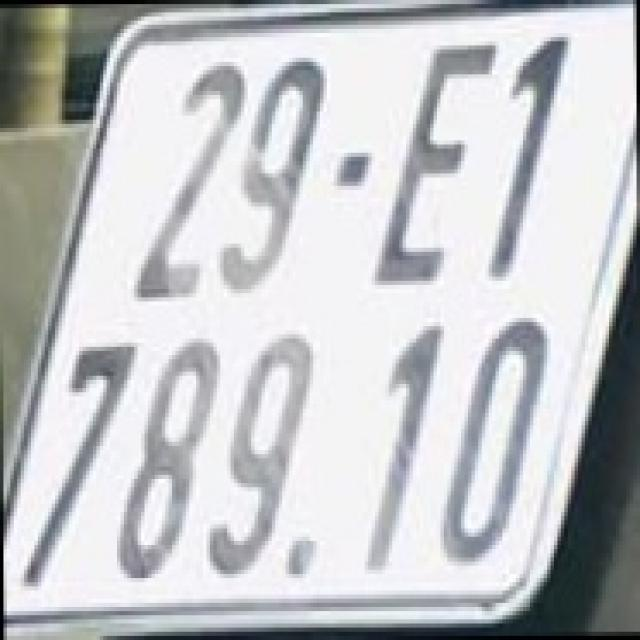0: (437, 310, 554, 566)
1: (354, 316, 444, 568), (485, 29, 571, 281)
2: (131, 58, 241, 301)
7: (17, 334, 131, 586)
8: (120, 339, 217, 578)
9: (206, 330, 316, 578), (220, 58, 324, 293)
E: (382, 33, 492, 285)
